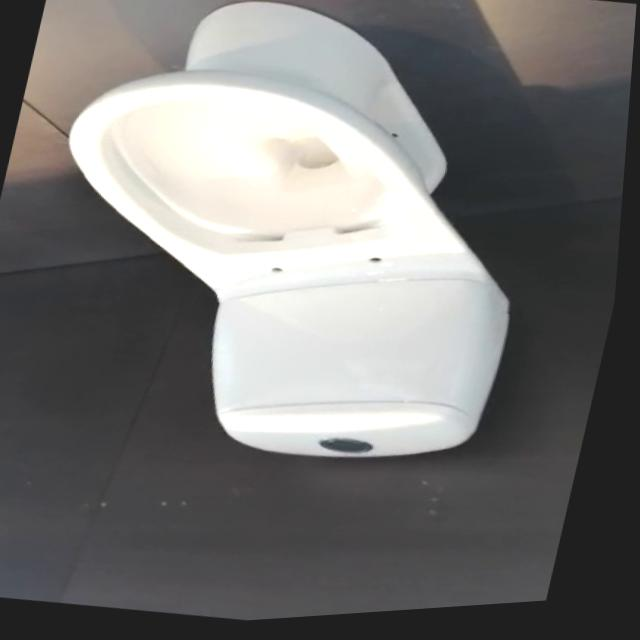toilet: (2, 0, 583, 505)
